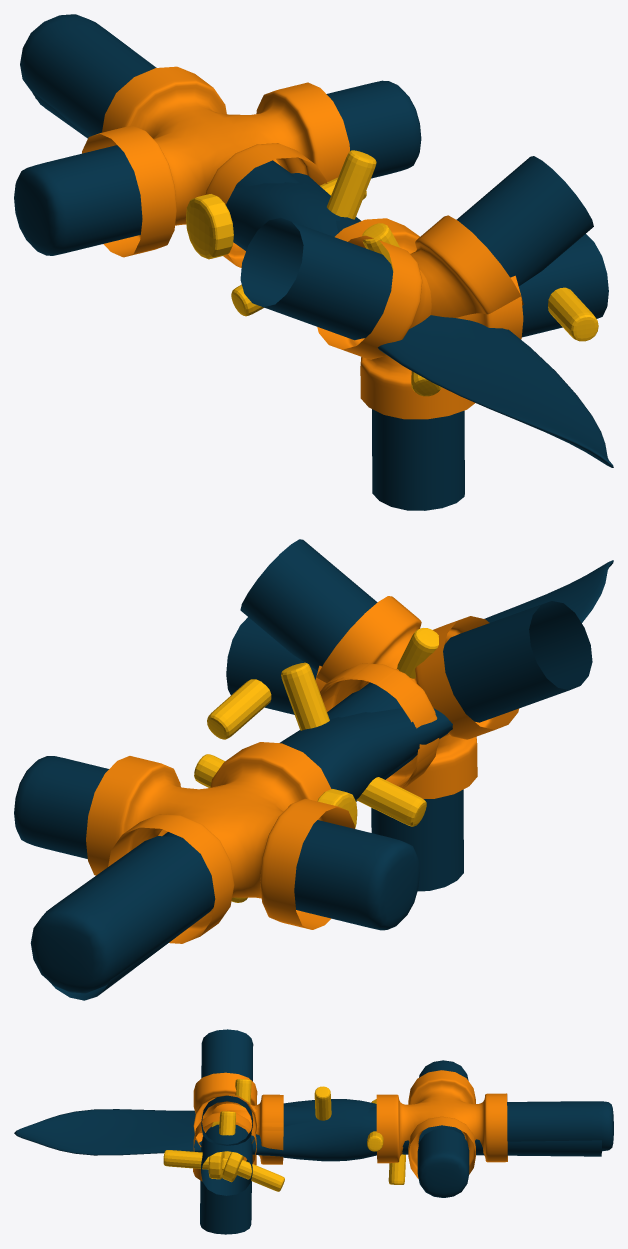
The model's file is Weapons.fbx.
3 views of the same model, one above another, from view 1: azimuth 30°, elevation 25°; view 2: azimuth 150°, elevation 25°; view 3: azimuth 270°, elevation 25° (orthographic). The views are drawn at different scales.
Visible parts, largest first — view 1: Weapon4, Weapon2, Weapon3, Weapon1; view 2: Weapon4, Weapon2, Weapon3, Weapon1; view 3: Weapon4, Weapon2, Weapon3, Weapon1.
Part boxes in pixels (x1=…): Weapon4: x1=14, y1=14, x2=613, y2=467; Weapon2: x1=35, y1=97, x2=593, y2=510; Weapon3: x1=186, y1=150, x2=608, y2=396; Weapon1: x1=32, y1=92, x2=608, y2=338; Weapon4: x1=14, y1=560, x2=613, y2=993; Weapon2: x1=49, y1=539, x2=592, y2=1000; Weapon3: x1=60, y1=617, x2=438, y2=997; Weapon1: x1=55, y1=639, x2=436, y2=996; Weapon4: x1=14, y1=1060, x2=613, y2=1197; Weapon2: x1=193, y1=1029, x2=601, y2=1234; Weapon3: x1=163, y1=1079, x2=463, y2=1195; Weapon1: x1=193, y1=1105, x2=376, y2=1195.
Bounding box in the file's own units: 38.68 × 29.72 × 99.84.
